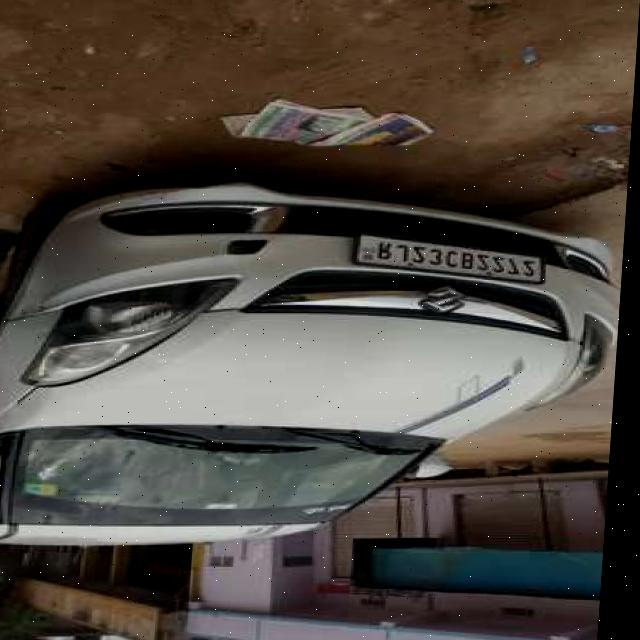plate: (352, 234, 551, 286)
